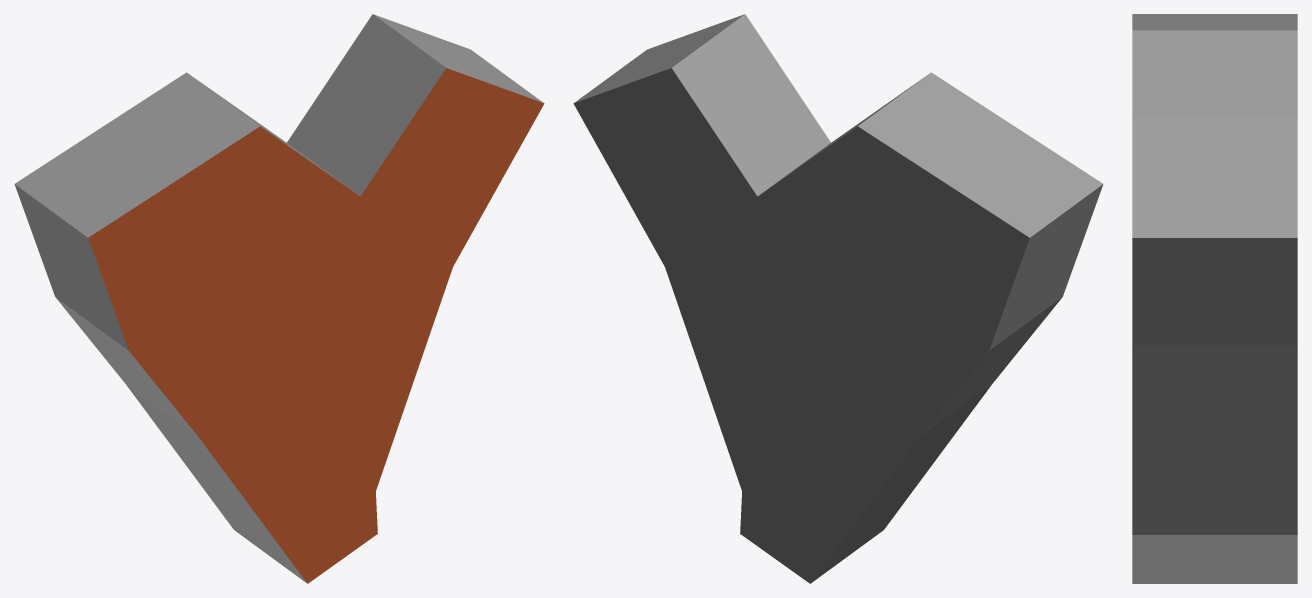
Rendered from construction_4847_assumed_A_Casa_h6m.obj.
3 views of the same model, side by side, from view 1: azimuth 30°, elevation 25°; view 2: azimuth 150°, elevation 25°; view 3: azimuth 270°, elevation 25° (orthographic). The views are drawn at different scales.
Parts seen in each view (by area): view 1: construction_4847_assumed_A_Casa; view 2: construction_4847_assumed_A_Casa; view 3: construction_4847_assumed_A_Casa.
Part boxes in pixels (x1,y1,x2,y2): construction_4847_assumed_A_Casa: (14,14,544,583); construction_4847_assumed_A_Casa: (573,14,1103,583); construction_4847_assumed_A_Casa: (1132,14,1297,583).
Bounding box in the file's own units: 21.46 × 21.67 × 6.
